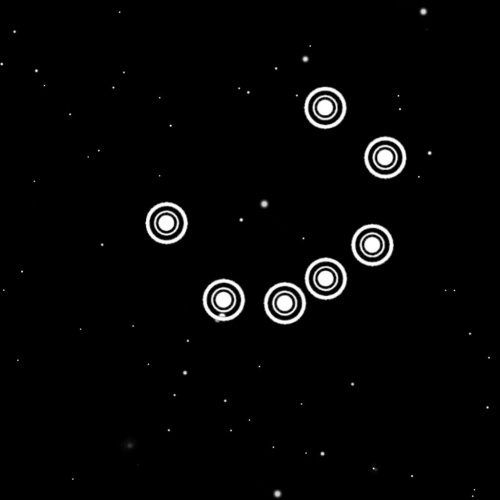corona_borealis: (140, 76, 414, 330)
